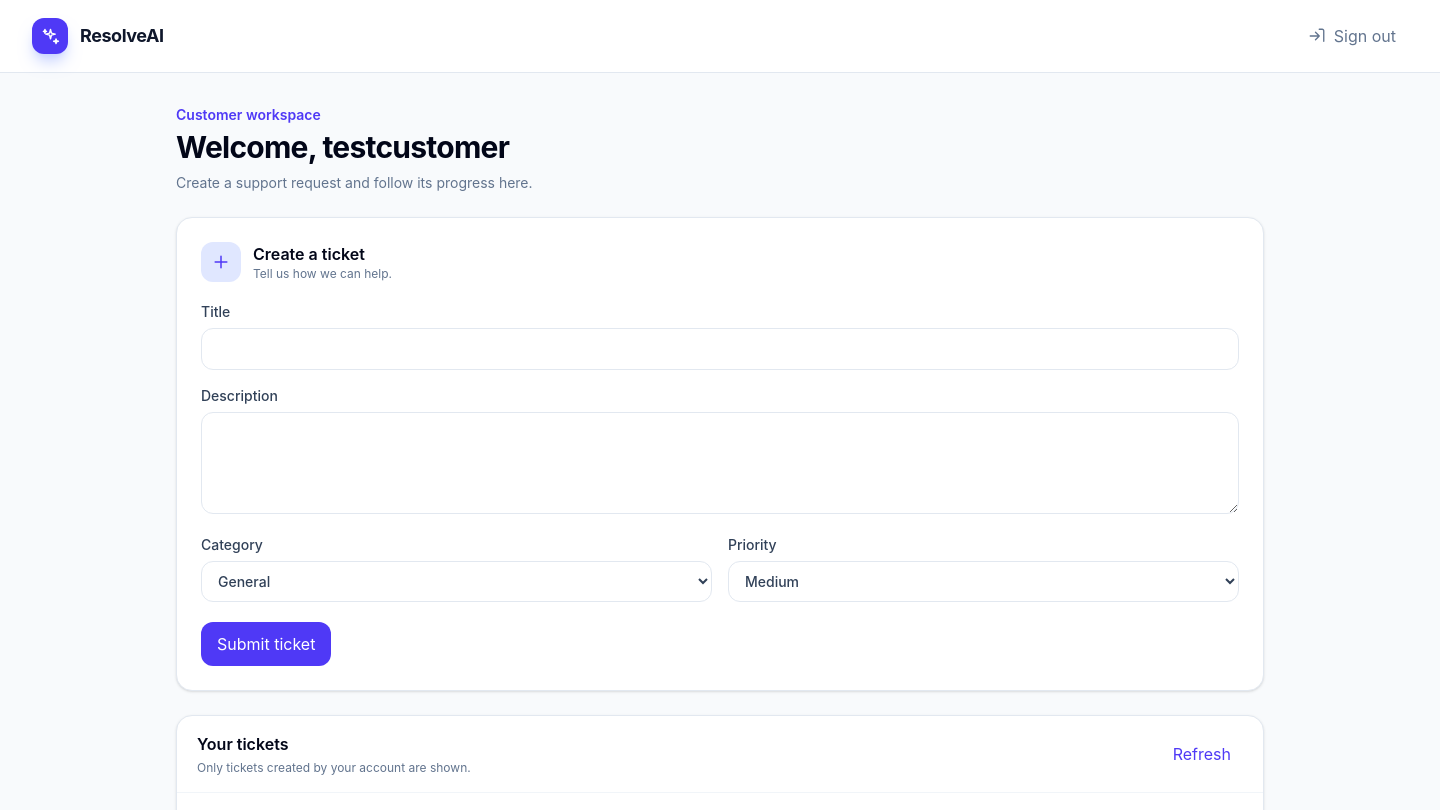
Test: App authentication and customer dashboard › signs out and returns to the login screen
expect the heading "Welcome, testcustomer" is shown: met, box [176,129,509,165]
Click the button "Sign out": (1352, 36) [1296,16,1408,56]
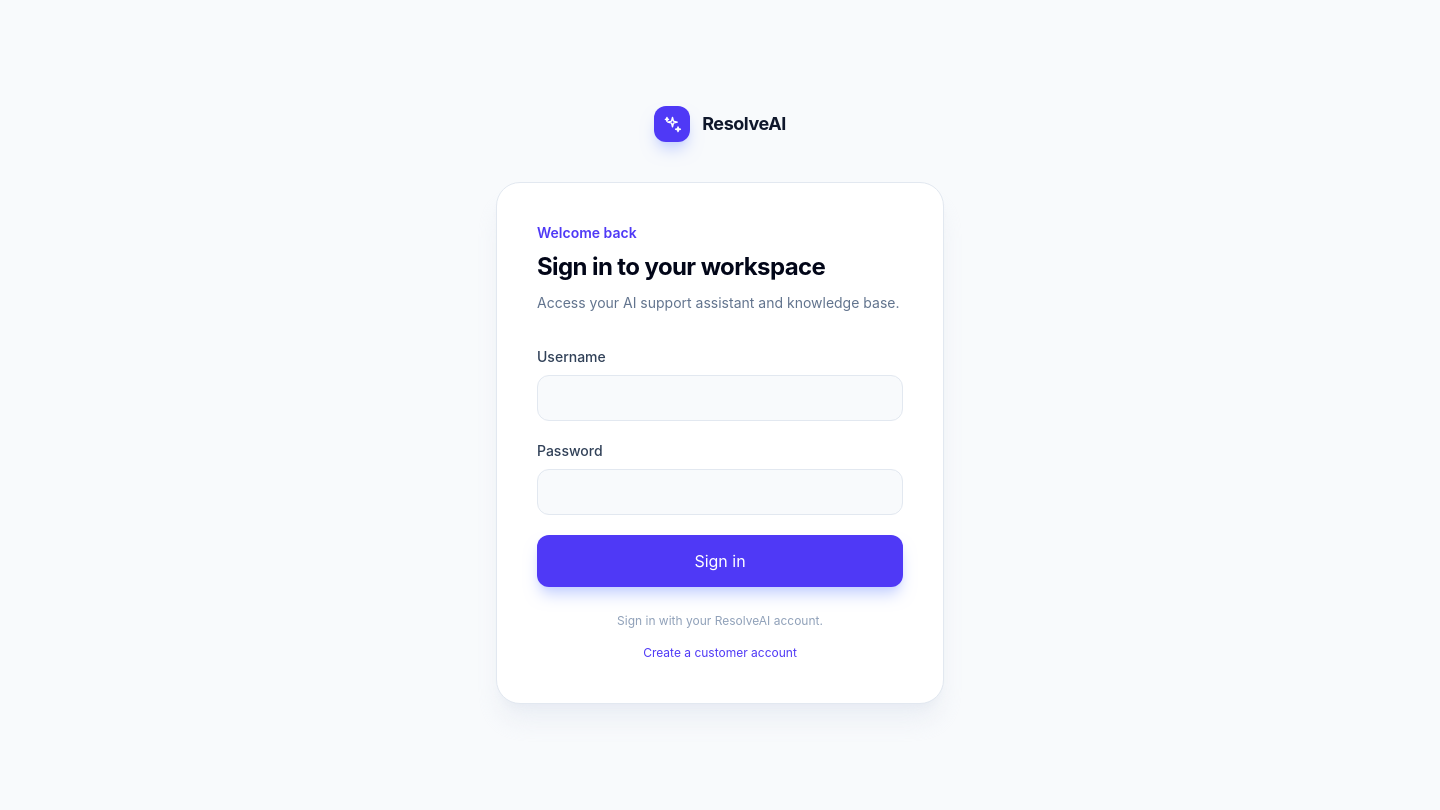
expect the button "Sign in" is shown: met, box [537,535,903,587]
